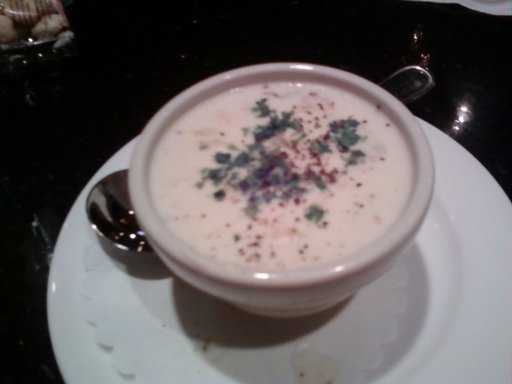soup: (140, 69, 407, 282)
